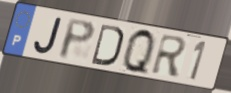1: (189, 40, 208, 83)
D: (90, 22, 125, 69)
J: (32, 15, 64, 55)
P: (57, 17, 97, 62)
Q: (122, 27, 156, 78)
R: (149, 33, 189, 79)
